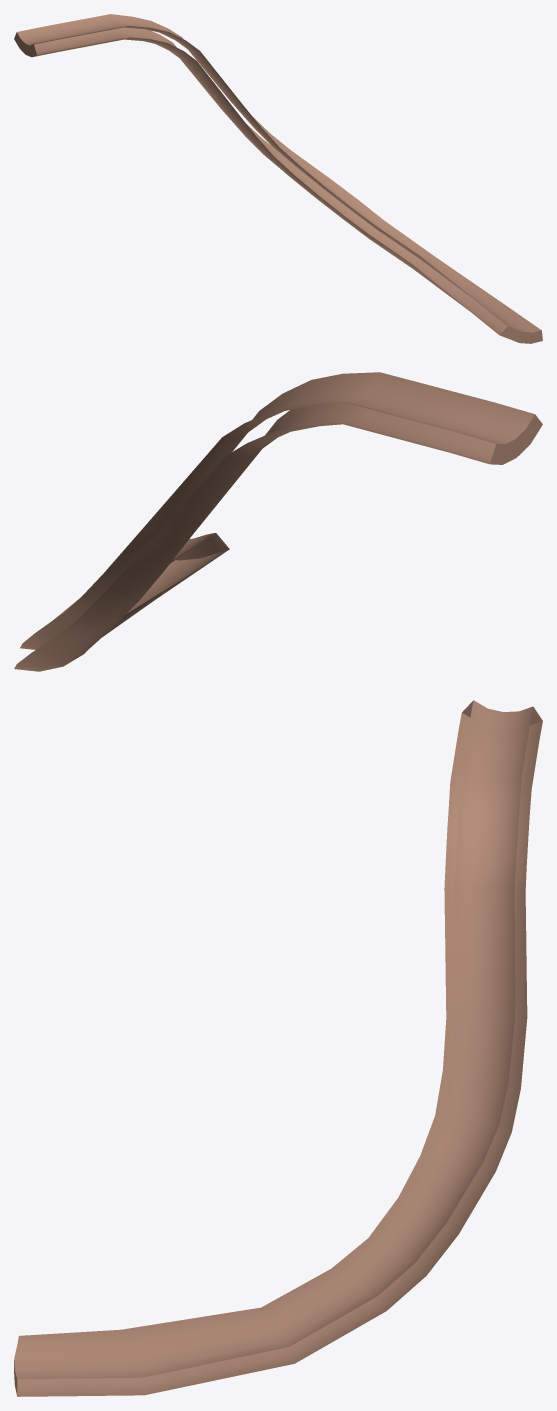
The model's file is Waterslide_water.fbx.
3 renders of one model, top to bottom at view 1: azimuth 30°, elevation 25°; view 2: azimuth 150°, elevation 25°; view 3: azimuth 270°, elevation 25°, orthographic. The views are drawn at different scales.
Parts seen in each view (by area): view 1: Slides.002; view 2: Slides.002; view 3: Slides.002.
Boxes of the visible parts, x1,y1,x2,y2 form: Slides.002: (14, 14, 542, 343); Slides.002: (14, 372, 542, 671); Slides.002: (14, 700, 542, 1396).
Size of the model in its own units: 6297 by 4605 by 5187.
